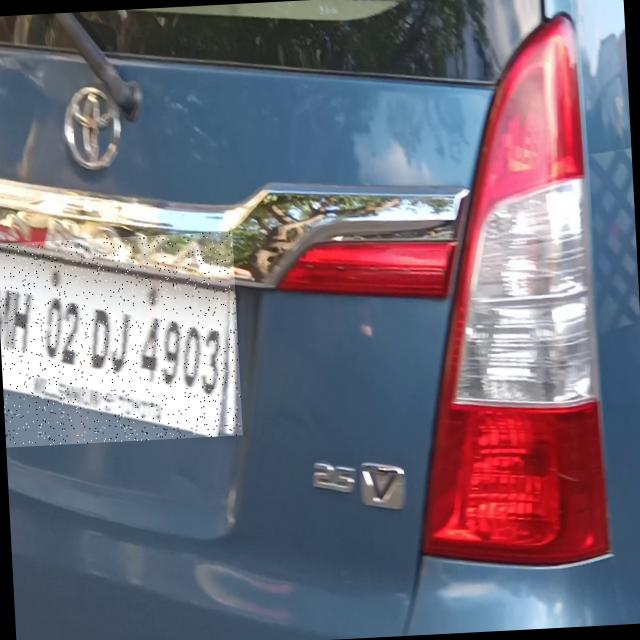Plate: (1, 232, 243, 448)
